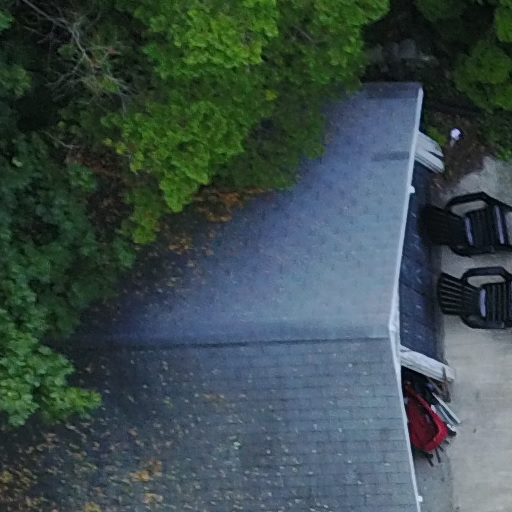trash bin: (401, 374, 481, 462)
